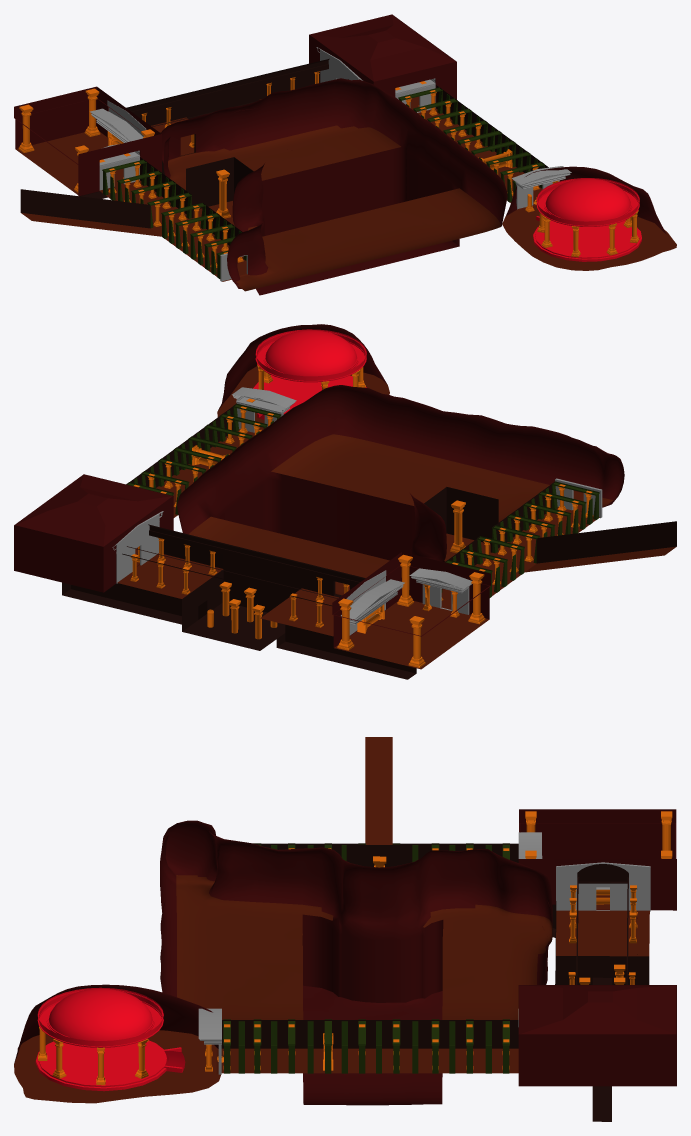
Rendered from Tutorial.fbx.
3 views of the same model, one above another, from view 1: azimuth 30°, elevation 25°; view 2: azimuth 150°, elevation 25°; view 3: azimuth 270°, elevation 25° (orthographic). The views are drawn at different scales.
Parts seen in each view (by area): view 1: CuevaSalto, Object010, Plane007, Plane009, Plane008, Plane005, Sphere003, Object002, Cylinder091, Object008, Object006, CupulaDeCupula (+9 smaller); view 2: CuevaSalto, Plane005, Object010, Plane007, Plane009, Object006, Sphere003, Object005, Plane008, Object008, CupulaDeCupula, Object097 (+11 smaller); view 3: CuevaSalto, Object010, Plane007, Plane008, Sphere003, Object002, Plane003, Object003, Cylinder091, Plane005, Object005, Object096 (+4 smaller).
Boxes of the visible parts, <box> form: CuevaSalto: <box>161,78,507,295</box>; Object010: <box>168,125,501,291</box>; Plane007: <box>309,14,456,108</box>; Plane009: <box>20,157,253,245</box>; Plane008: <box>14,86,161,196</box>; Plane005: <box>80,58,348,198</box>; Sphere003: <box>536,178,639,226</box>; Object002: <box>502,205,676,270</box>; Cylinder091: <box>533,216,641,261</box>; Object008: <box>21,180,247,281</box>; Object006: <box>15,131,123,194</box>; CupulaDeCupula: <box>506,166,666,234</box>; CuevaSalto: <box>177,385,624,562</box>; Plane005: <box>62,524,416,679</box>; Object010: <box>188,434,612,595</box>; Plane007: <box>14,474,173,592</box>; Plane009: <box>424,482,676,589</box>; Object006: <box>334,601,489,669</box>; Sphere003: <box>255,329,366,382</box>; Object005: <box>117,553,338,636</box>; Plane008: <box>332,552,490,647</box>; Object008: <box>441,507,676,609</box>; CupulaDeCupula: <box>218,324,387,410</box>; Object097: <box>116,514,159,583</box>; CuevaSalto: <box>160,820,552,1105</box>; Object010: <box>176,875,552,1019</box>; Plane007: <box>518,985,676,1086</box>; Plane008: <box>518,809,676,910</box>; Sphere003: <box>37,987,163,1047</box>; Object002: <box>14,1030,220,1103</box>; Plane003: <box>221,1020,518,1048</box>; Object003: <box>216,1048,518,1074</box>; Cylinder091: <box>35,1040,185,1091</box>; Plane005: <box>552,864,649,1121</box>; Object005: <box>556,910,649,956</box>; Object096: <box>556,862,650,911</box>.
Size of the model in its own units: 33908 by 8085 by 30908.
